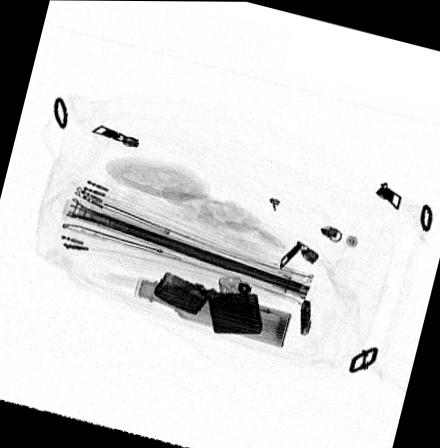Lighter: (153, 270, 263, 334)
